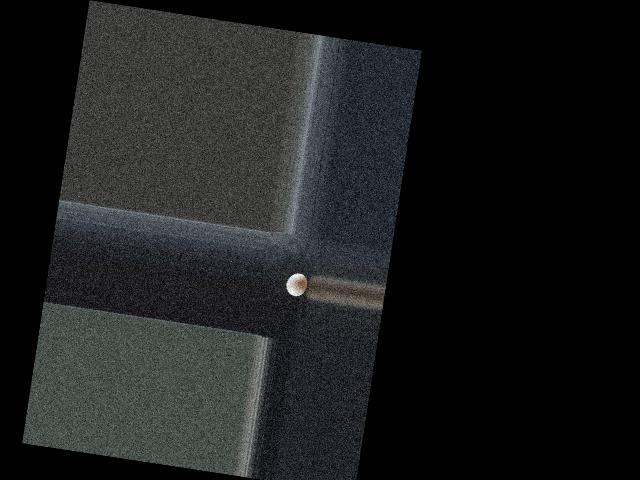egg: (284, 271, 309, 297)
